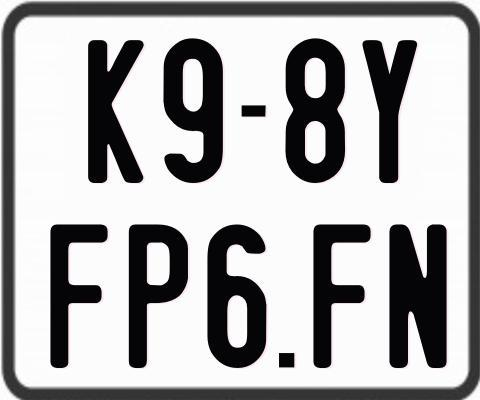6: (206, 224, 268, 371)
8: (284, 37, 345, 188)
9: (160, 38, 225, 184)
F: (50, 221, 111, 365), (310, 222, 368, 371)
K: (88, 40, 149, 188)
N: (386, 224, 444, 370)
P: (128, 221, 189, 369)
Y: (362, 39, 422, 182)
